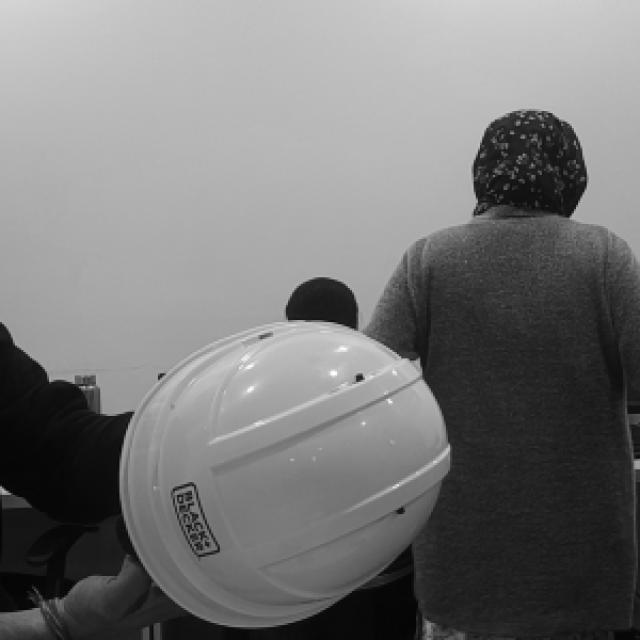safety_helmet: (121, 321, 451, 628)
